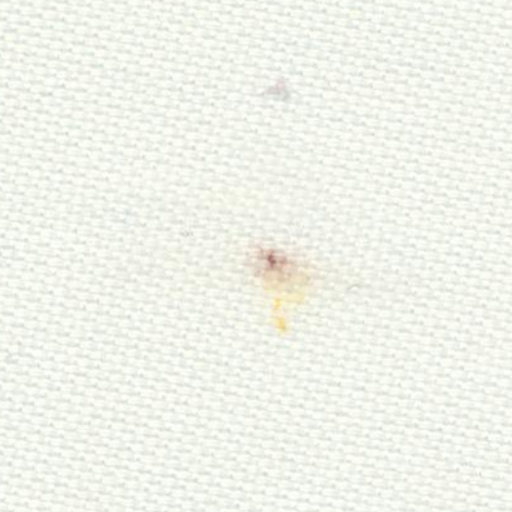WuZi: (220, 215, 380, 364), (238, 58, 310, 115)
